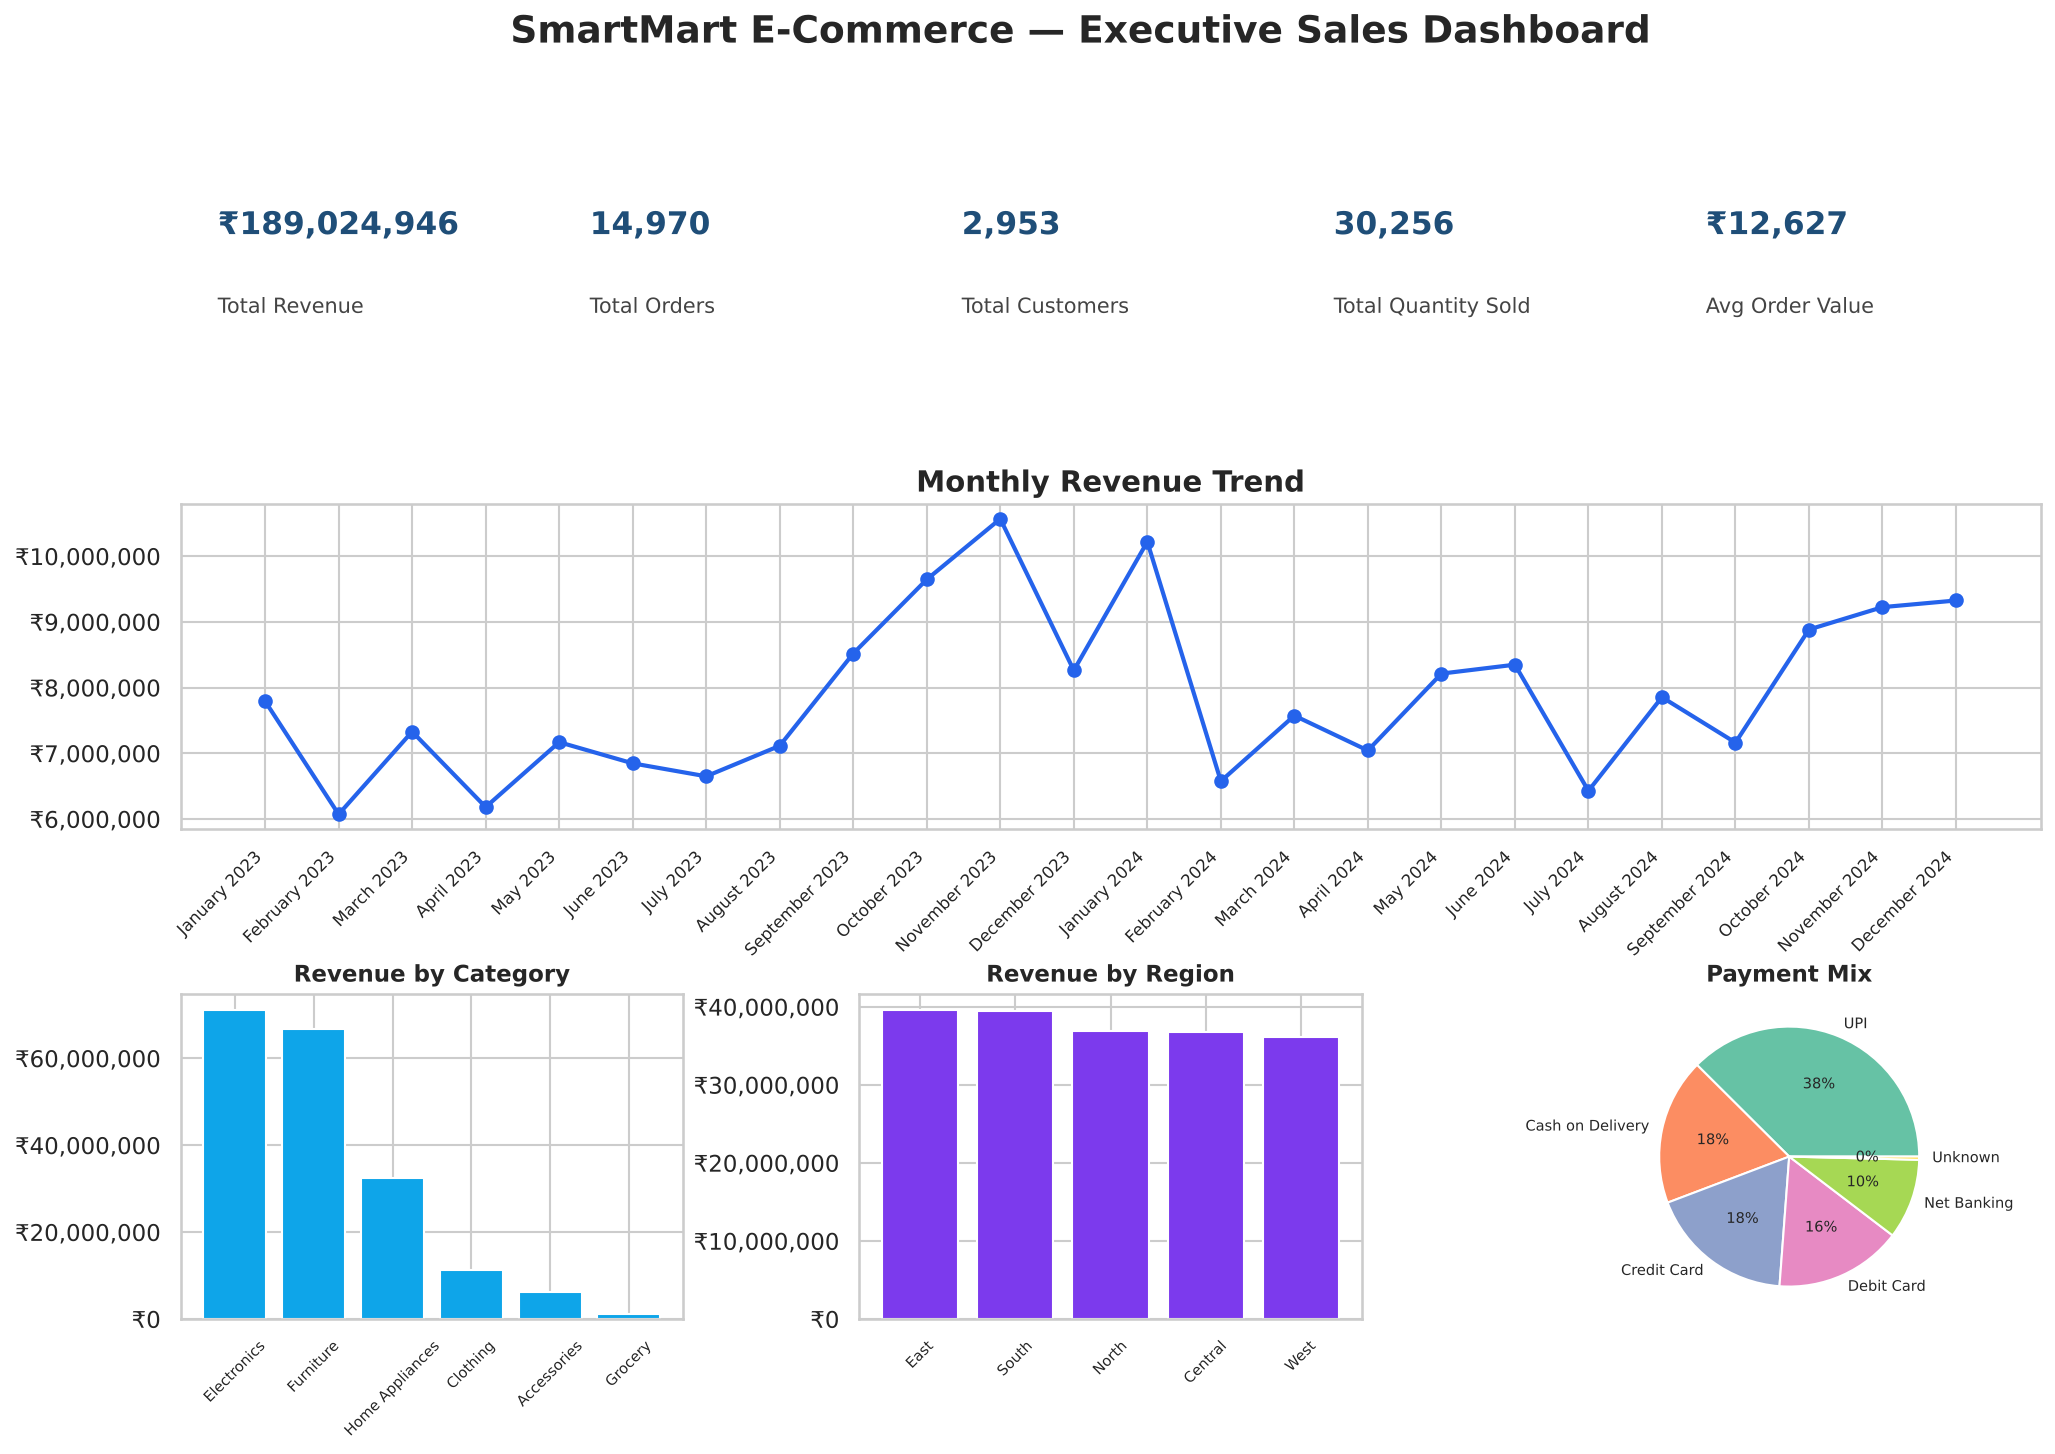

The page's visual inventory and layout, read from the dashboard file:
{"tool":"powerbi","page":{"name":"Executive Overview","canvas":[1920,1080],"ordinal":0},"visuals":[{"type":"slicer","fields":{"Values":["Dim_Date.Date"]},"box":[27.1,123.9,818.7,149],"z":0},{"type":"slicer","fields":{"Values":["Fact_Sales.Region"]},"box":[845.8,0,224.5,272.9],"z":1},{"type":"slicer","fields":{"Values":["dim_product.Category"]},"box":[1070.3,0,272,272],"z":2},{"type":"slicer","fields":{"Values":["dim_product.Product"]},"box":[1343.2,0,272,272],"z":3},{"type":"slicer","fields":{"Values":["Fact_Sales.Payment_Mode"]},"box":[1616.1,0,272,272],"z":4},{"type":"cardVisual","fields":{"Data":["Fact_Sales.Average Order Value","Fact_Sales.Total Revenue","Fact_Sales.Total Orders","Fact_Sales.Total Units Sold","Fact_Sales.Total Customers"]},"box":[27.1,0,819.3,124.1],"z":5},{"type":"lineChart","fields":{"Category":["Dim_Date.Year-Month"],"Y":["Fact_Sales.Total Revenue"]},"box":[27.1,683.2,636.8,396.8],"z":6},{"type":"clusteredColumnChart","fields":{"Category":["dim_product.Category"],"Y":["Fact_Sales.Total Revenue"]},"box":[936.8,272.9,497.4,410.3],"z":7},{"type":"clusteredBarChart","fields":{"Category":["dim_product.Product"],"Y":["Fact_Sales.Total Revenue"]},"box":[663.9,683.2,656.1,396.8],"z":8},{"type":"clusteredBarChart","fields":{"Category":["Fact_Sales.Region"],"Y":["Fact_Sales.Total Revenue"]},"box":[451,272.9,485.8,410.3],"z":9},{"type":"donutChart","fields":{"Category":["Fact_Sales.Payment_Mode"],"Y":["Fact_Sales.Total Revenue"]},"box":[27.1,272.9,423.9,410.3],"z":10},{"type":"lineChart","fields":{"Category":["Dim_Date.Year-Month"],"Y":["Fact_Sales.Total Orders"]},"box":[1320,683.2,569,396.8],"z":11},{"type":"clusteredColumnChart","fields":{"Category":["Dim_Date.Year"],"Y":["Fact_Sales.Total Revenue"]},"box":[1434.2,272.9,454.8,410.3],"z":12}]}

Visuals, with their boxes on the page's 1920x1080 design canvas (x1, y1, x2, y2). These are canvas units, not pixel positions in the 2055x1454 screenshot, which may show the page scaled, cropped or inside an application window:
slicer - Dim_Date.Date: 27,124,846,273
slicer - Fact_Sales.Region: 846,0,1070,273
slicer - dim_product.Category: 1070,0,1342,272
slicer - dim_product.Product: 1343,0,1615,272
slicer - Fact_Sales.Payment_Mode: 1616,0,1888,272
cardVisual - Fact_Sales.Average Order Value x Fact_Sales.Total Revenue: 27,0,846,124
lineChart - Dim_Date.Year-Month x Fact_Sales.Total Revenue: 27,683,664,1080
clusteredColumnChart - dim_product.Category x Fact_Sales.Total Revenue: 937,273,1434,683
clusteredBarChart - dim_product.Product x Fact_Sales.Total Revenue: 664,683,1320,1080
clusteredBarChart - Fact_Sales.Region x Fact_Sales.Total Revenue: 451,273,937,683
donutChart - Fact_Sales.Payment_Mode x Fact_Sales.Total Revenue: 27,273,451,683
lineChart - Dim_Date.Year-Month x Fact_Sales.Total Orders: 1320,683,1889,1080
clusteredColumnChart - Dim_Date.Year x Fact_Sales.Total Revenue: 1434,273,1889,683
